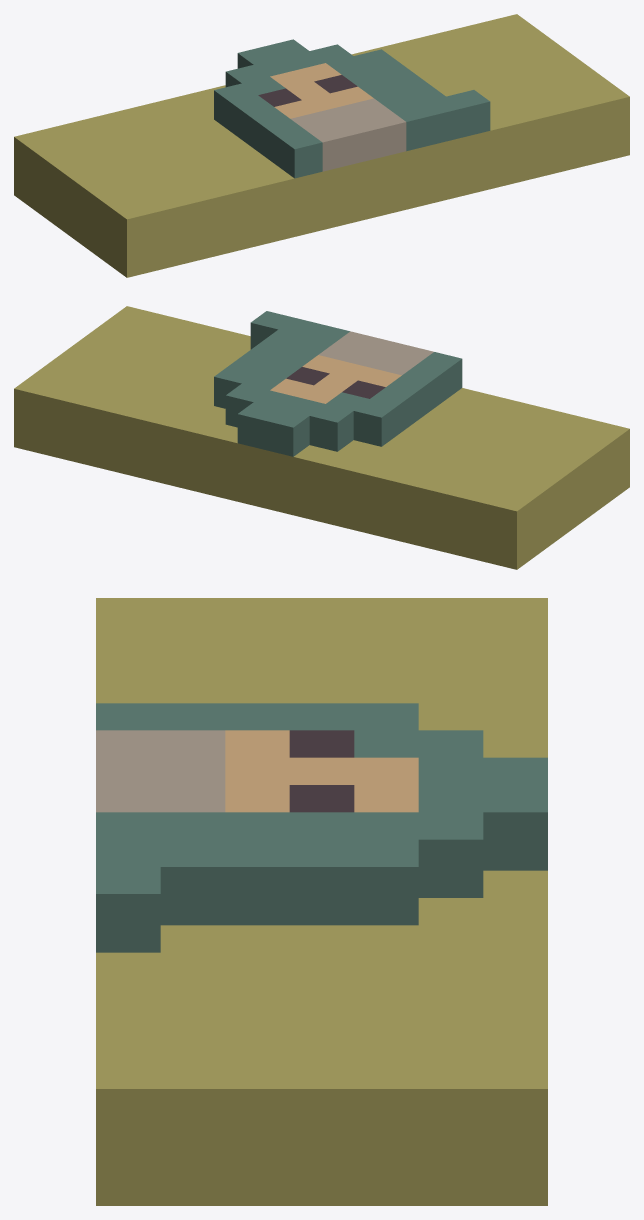
The model's file is dunDoll50.obj.
The picture shows the model from 3 angles, top to bottom: view 1: azimuth 30°, elevation 25°; view 2: azimuth 150°, elevation 25°; view 3: azimuth 270°, elevation 25°; orthographic projection. The views are drawn at different scales.
Size of the model in its own units: 1.8 by 0.3 by 0.7.
1 material, 1 textured.
